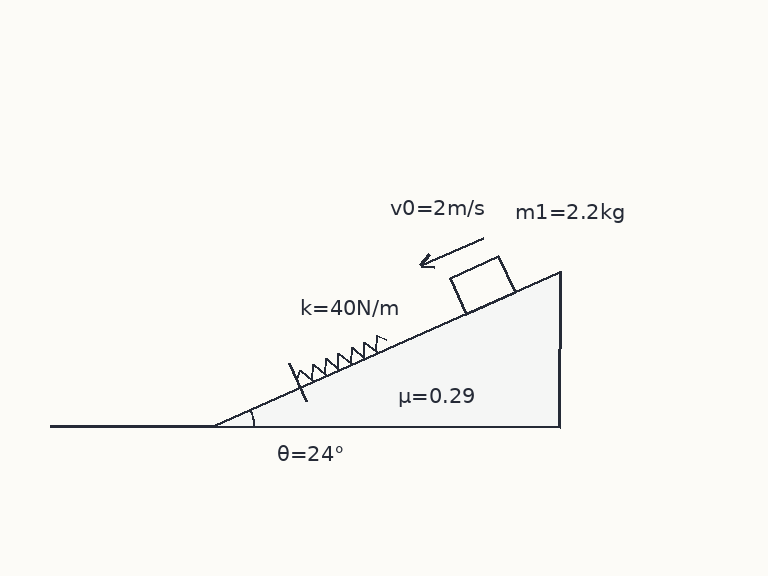block: (448, 254, 517, 316)
ramp: (212, 270, 561, 428)
spring: (295, 334, 388, 382)
